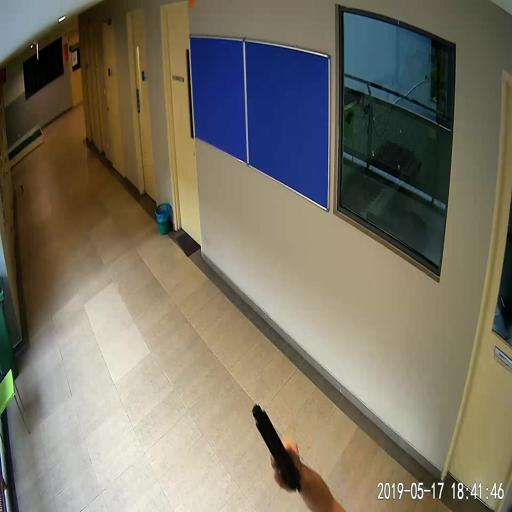pistol: (252, 402, 301, 493)
